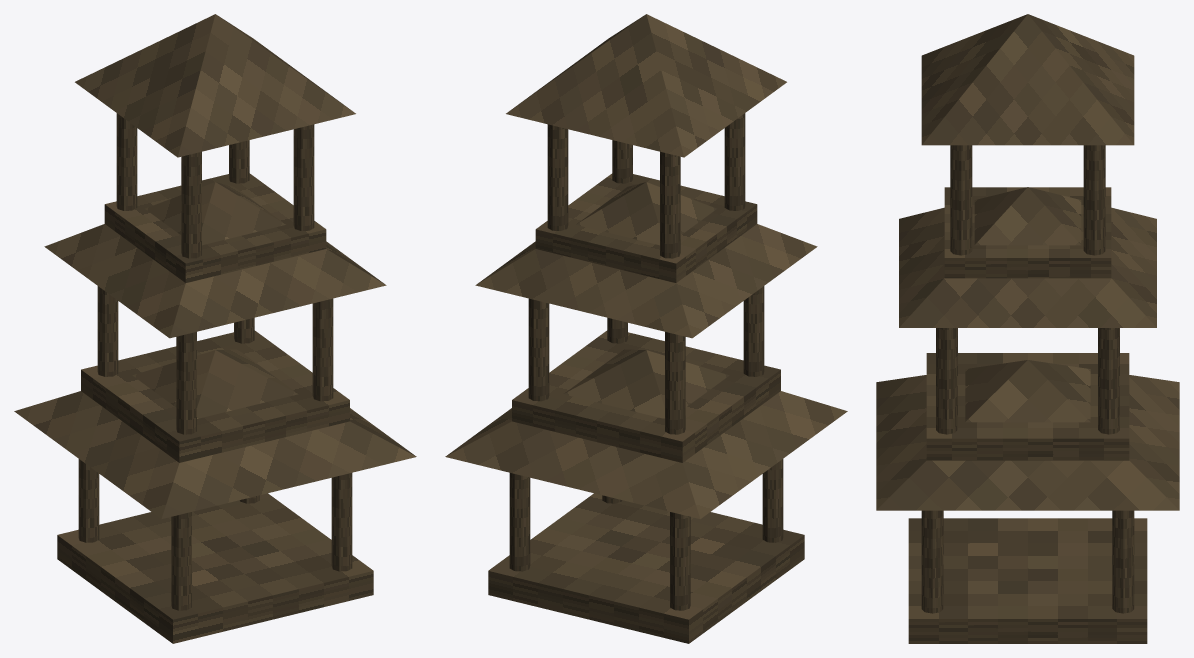
The model's file is pagoda_03.glb.
The picture shows the model from 3 angles, left to right: view 1: azimuth 30°, elevation 25°; view 2: azimuth 150°, elevation 25°; view 3: azimuth 270°, elevation 25°; orthographic projection. The views are drawn at different scales.
Parts seen in each view (by area): view 1: Floor, Roof, Roof.002, Roof.001, Floor.001, Floor.002, Column.010, Column.006, Column.008, Column.002, Column.004, Column (+4 smaller); view 2: Floor, Roof, Roof.002, Roof.001, Floor.001, Floor.002, Column.011, Column.007, Column.009, Column.003, Column.005, Column.001 (+4 smaller); view 3: Roof, Floor, Roof.001, Roof.002, Floor.001, Floor.002, Column.010, Column.011, Column.002, Column.003, Column.006, Column.007.
Boxes of the visible parts, x1=… form: Floor: x1=57, y1=493, x2=373, y2=643; Roof: x1=14, y1=349, x2=416, y2=519; Roof.002: x1=75, y1=14, x2=355, y2=157; Roof.001: x1=44, y1=182, x2=386, y2=338; Floor.001: x1=81, y1=330, x2=349, y2=462; Floor.002: x1=104, y1=173, x2=326, y2=282; Column.010: x1=293, y1=124, x2=314, y2=230; Column.006: x1=312, y1=298, x2=333, y2=401; Column.008: x1=181, y1=151, x2=201, y2=258; Column.002: x1=331, y1=473, x2=352, y2=571; Column.004: x1=176, y1=332, x2=196, y2=434; Column: x1=171, y1=512, x2=191, y2=610; Floor: x1=488, y1=493, x2=804, y2=643; Roof: x1=445, y1=349, x2=847, y2=519; Roof.002: x1=506, y1=14, x2=786, y2=157; Roof.001: x1=475, y1=182, x2=817, y2=338; Floor.001: x1=512, y1=330, x2=780, y2=462; Floor.002: x1=535, y1=173, x2=757, y2=282; Column.011: x1=547, y1=124, x2=568, y2=230; Column.007: x1=528, y1=298, x2=549, y2=401; Column.009: x1=660, y1=151, x2=680, y2=258; Column.003: x1=509, y1=473, x2=530, y2=571; Column.005: x1=665, y1=332, x2=685, y2=434; Column.001: x1=670, y1=512, x2=690, y2=610; Roof: x1=876, y1=360, x2=1179, y2=510; Floor: x1=908, y1=518, x2=1147, y2=643; Roof.001: x1=899, y1=187, x2=1156, y2=327; Roof.002: x1=921, y1=14, x2=1134, y2=145; Floor.001: x1=926, y1=353, x2=1129, y2=460; Floor.002: x1=944, y1=187, x2=1111, y2=278; Column.010: x1=950, y1=145, x2=972, y2=255; Column.011: x1=1083, y1=145, x2=1105, y2=255; Column.002: x1=921, y1=510, x2=943, y2=613; Column.003: x1=1112, y1=510, x2=1134, y2=613; Column.006: x1=936, y1=328, x2=957, y2=434; Column.007: x1=1098, y1=328, x2=1119, y2=434.
Bounding box in the file's own units: 3.31 × 6.97 × 3.31.
Materials: 1 (1 with a texture image).
